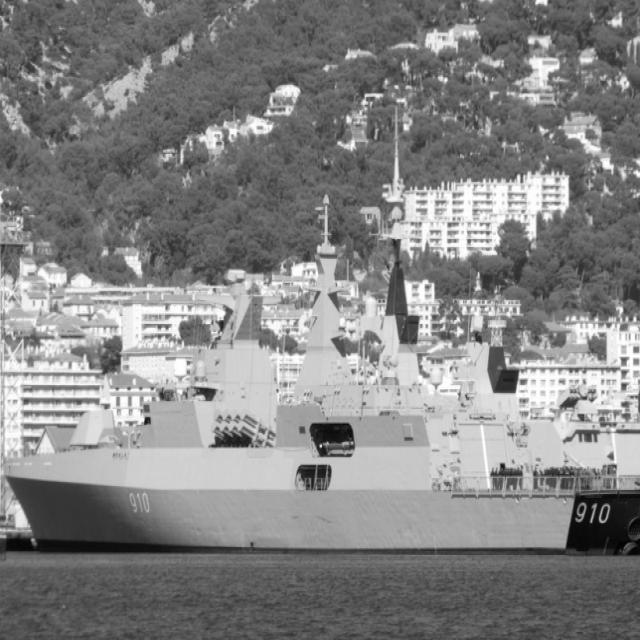Fragata: (1, 193, 640, 558)
